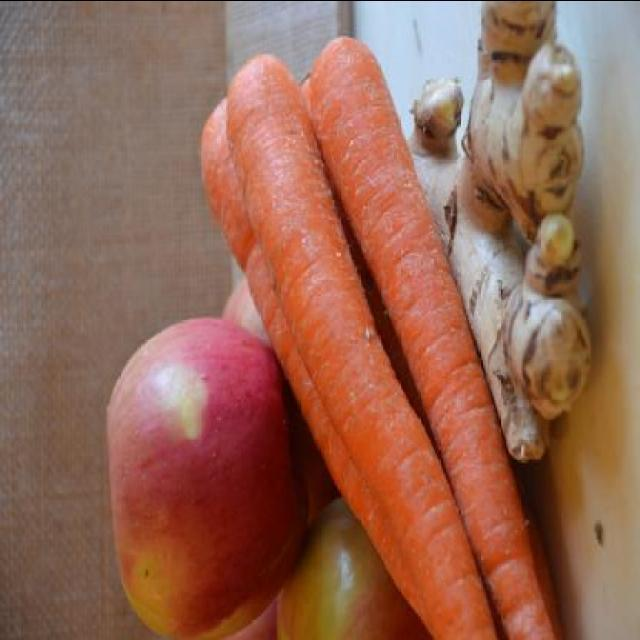Carrot: (224, 54, 500, 640)
